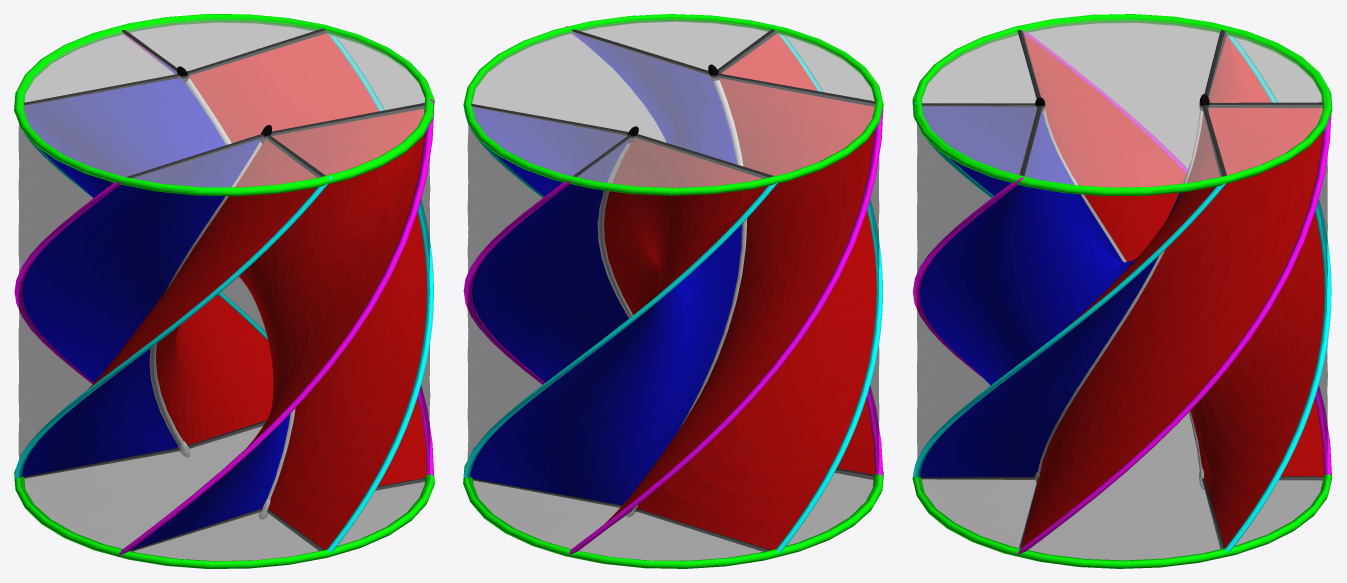
Rendered from adapted_l3_1_meridional_disk_cut.glb.
3 views of the same model, side by side, from view 1: azimuth 30°, elevation 25°; view 2: azimuth 150°, elevation 25°; view 3: azimuth 270°, elevation 25° (orthographic).
Parts seen in each view (by area): view 1: Torus, Circle, meridional_disk_intersection, meridional_disk_intersection_bdry, boundary2, boundary1, meridional_disk_intersection.001, sing; view 2: Circle, Torus, meridional_disk_intersection, meridional_disk_intersection_bdry, boundary1, boundary2, meridional_disk_intersection.001, sing; view 3: Torus, Circle, meridional_disk_intersection, meridional_disk_intersection_bdry, boundary1, boundary2, meridional_disk_intersection.001, sing.
Boxes of the visible parts, x1,y1,x2,y2 form: Torus: [18, 124, 430, 561]; Circle: [22, 33, 426, 550]; meridional_disk_intersection: [24, 19, 424, 560]; meridional_disk_intersection_bdry: [14, 14, 434, 568]; boundary2: [15, 34, 433, 553]; boundary1: [14, 33, 434, 556]; meridional_disk_intersection.001: [23, 28, 425, 551]; sing: [149, 78, 295, 498]; Circle: [470, 33, 876, 549]; Torus: [467, 124, 879, 560]; meridional_disk_intersection: [472, 19, 874, 560]; meridional_disk_intersection_bdry: [463, 14, 883, 568]; boundary1: [463, 26, 883, 555]; boundary2: [464, 24, 882, 553]; meridional_disk_intersection.001: [471, 29, 875, 551]; sing: [597, 80, 747, 428]; Torus: [917, 124, 1327, 560]; Circle: [920, 34, 1324, 548]; meridional_disk_intersection: [921, 19, 1323, 559]; meridional_disk_intersection_bdry: [912, 14, 1332, 568]; boundary1: [913, 32, 1331, 555]; boundary2: [913, 36, 1331, 552]; meridional_disk_intersection.001: [920, 30, 1323, 548]; sing: [1037, 109, 1203, 474].
Size of the model in its own units: 2.05 by 2.1 by 2.04.
